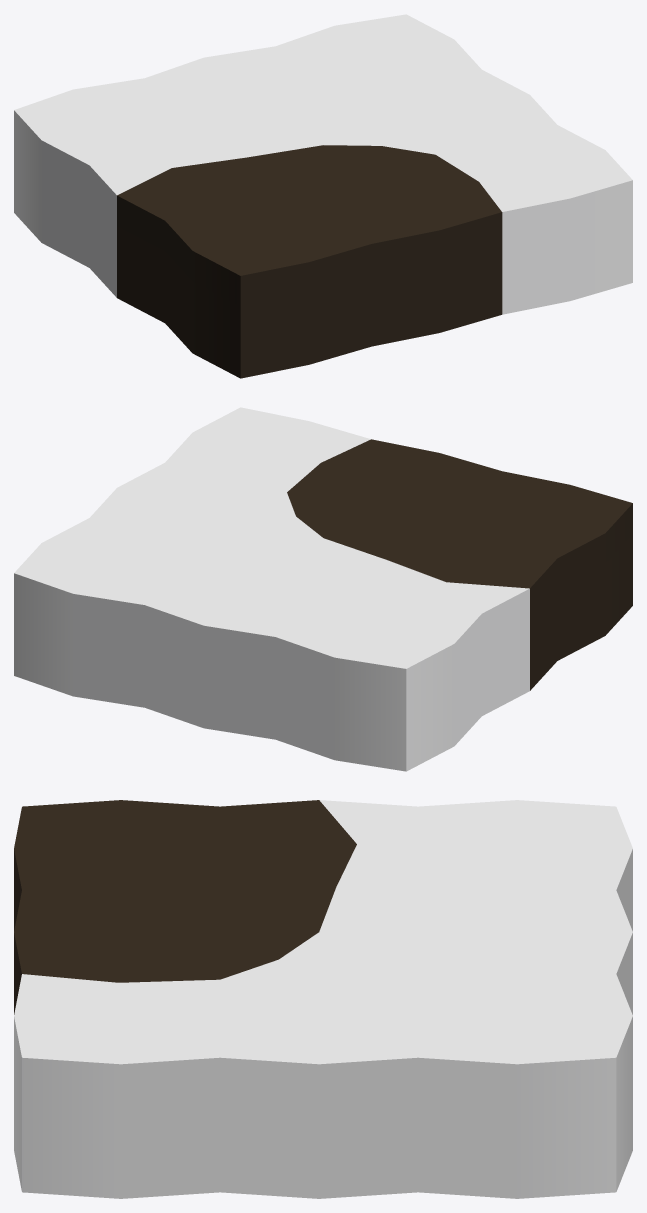
The model's file is jaggeredTile-16b_col.fbx.
3 views of the same model, one above another, from view 1: azimuth 30°, elevation 25°; view 2: azimuth 150°, elevation 25°; view 3: azimuth 270°, elevation 25° (orthographic). The views are drawn at different scales.
Parts seen in each view (by area): view 1: jaggeredTile-16b.col; view 2: jaggeredTile-16b.col; view 3: jaggeredTile-16b.col.
Part boxes in pixels (x1,y1,x2,y2): jaggeredTile-16b.col: [14, 14, 632, 378]; jaggeredTile-16b.col: [14, 407, 632, 771]; jaggeredTile-16b.col: [14, 800, 632, 1198].
Bounding box in the file's own units: 2.1 × 0.5 × 2.08.
Materials: 1 (1 with a texture image).
